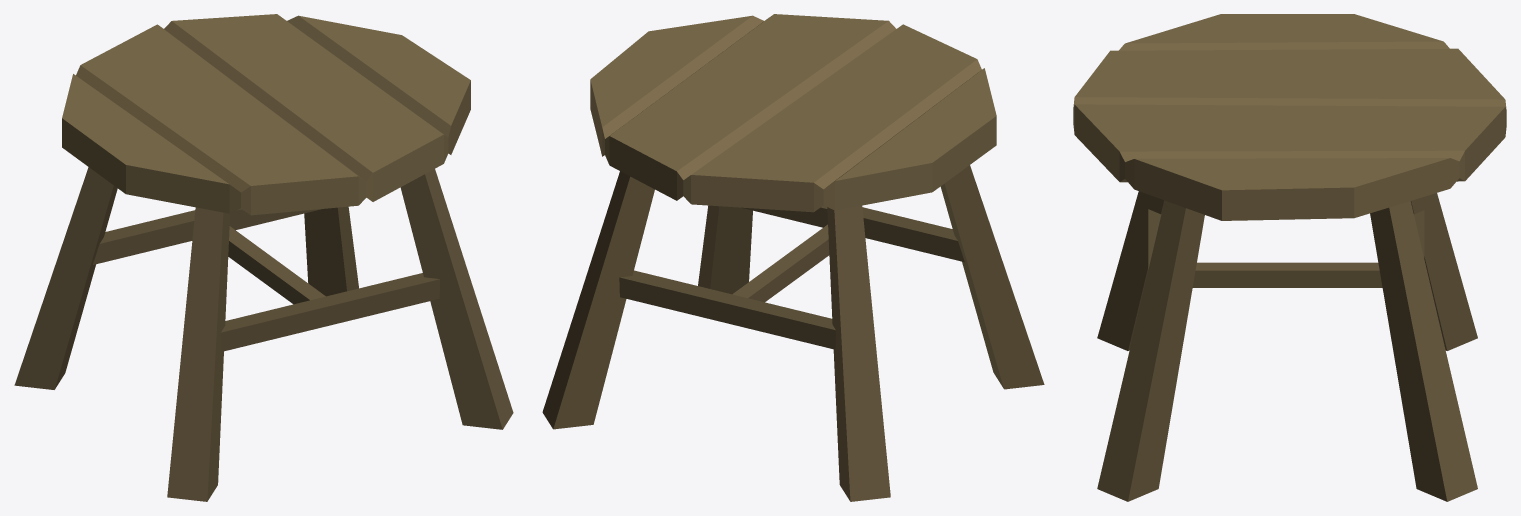
Rendered from Chair_2.fbx.
The picture shows the model from 3 angles, left to right: view 1: azimuth 30°, elevation 25°; view 2: azimuth 150°, elevation 25°; view 3: azimuth 270°, elevation 25°; orthographic projection. The views are drawn at different scales.
Parts seen in each view (by area): view 1: Chair_2; view 2: Chair_2; view 3: Chair_2.
Part boxes in pixels (x1,y1,x2,y2): Chair_2: (14, 14, 513, 501); Chair_2: (542, 14, 1044, 501); Chair_2: (1073, 14, 1506, 501).
Size of the model in its own units: 56.73 by 46.52 by 58.38.
